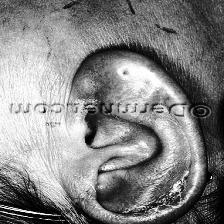Toxin: (139, 181, 188, 212)
